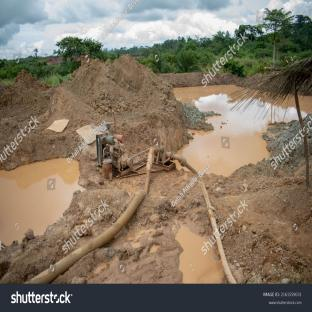ProcessingEquipment: (87, 125, 134, 182)
